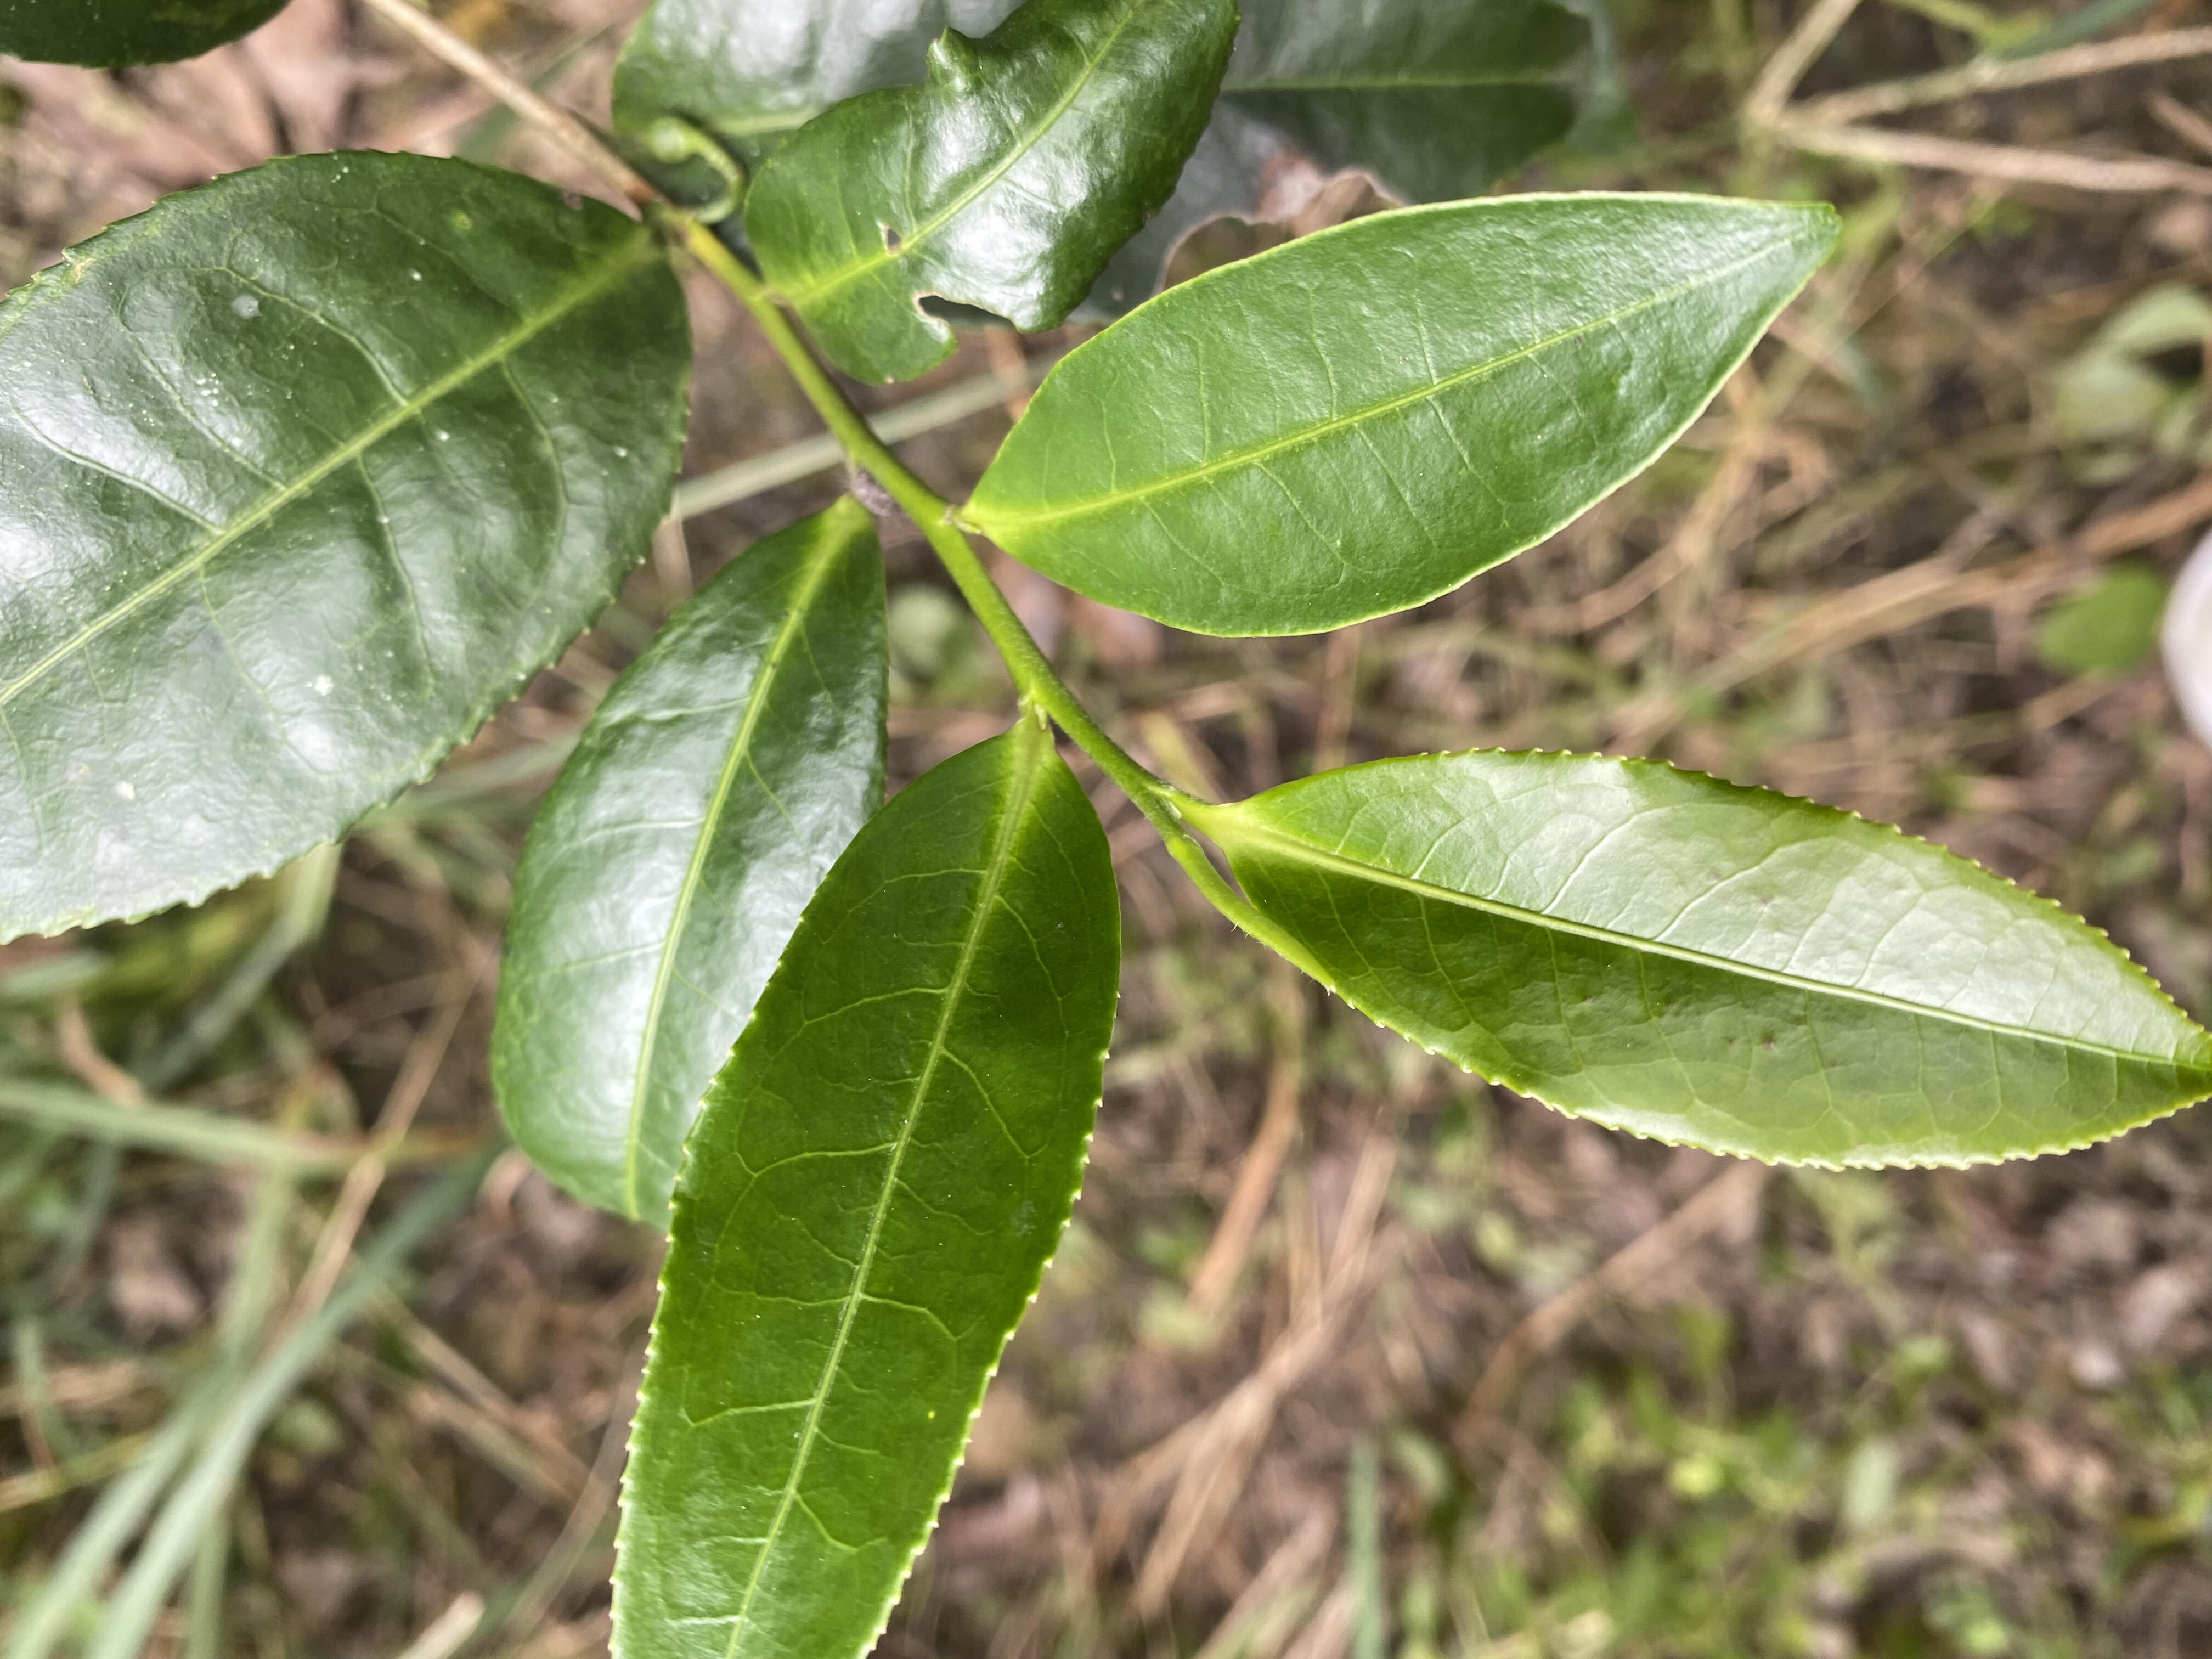chihuo_high: (745, 3, 1240, 390)
healthy: (603, 737, 1125, 1659), (1226, 749, 2209, 1175), (972, 188, 1844, 645), (489, 500, 887, 1230)
